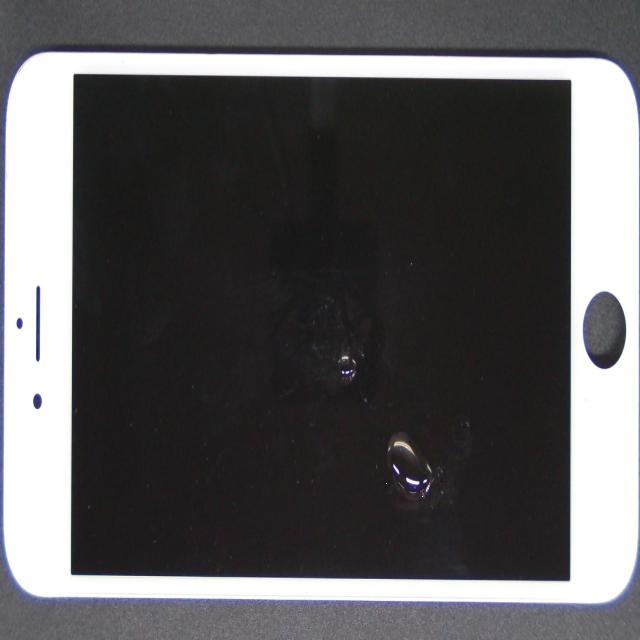oil: (218, 207, 597, 640), (155, 176, 508, 566)
